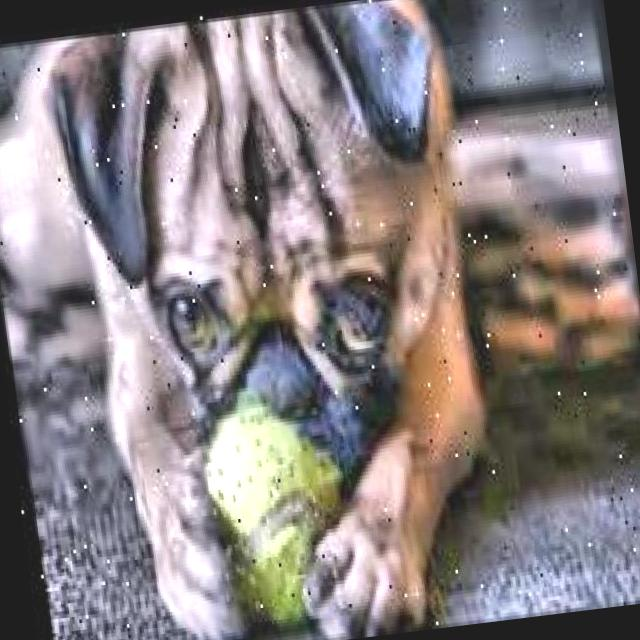Tennis Ball: (196, 398, 347, 632)
